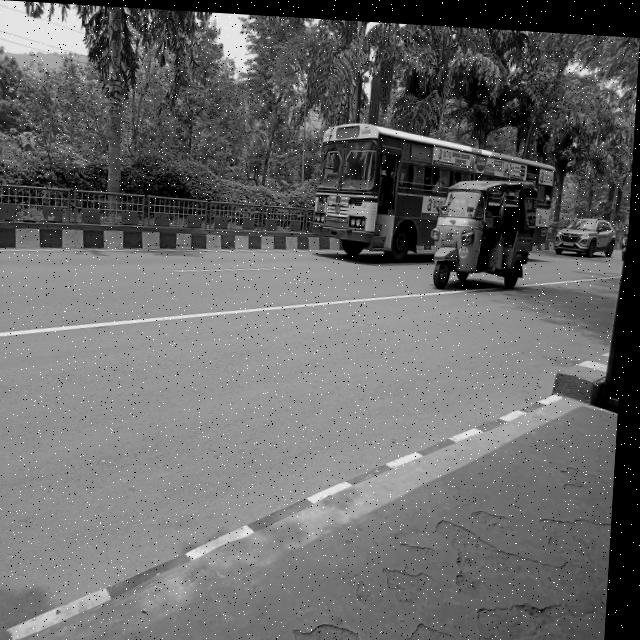bus: (314, 112, 443, 260)
car: (559, 201, 620, 258)
